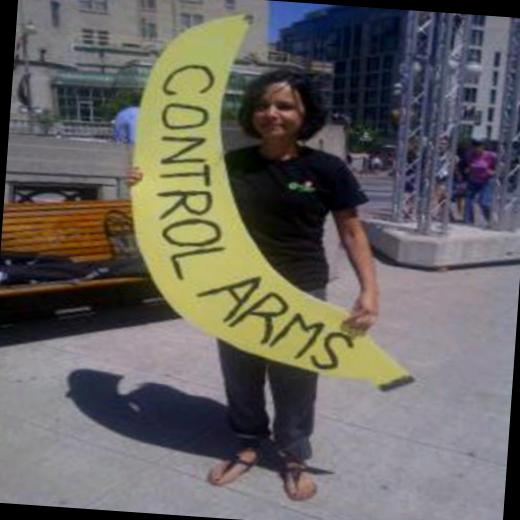Banana: (113, 4, 439, 396)
